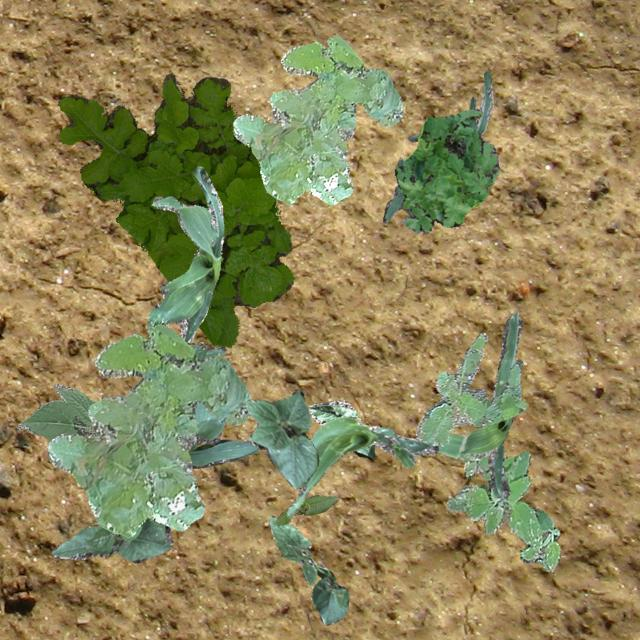crop: (382, 70, 492, 222), (436, 312, 522, 498), (286, 414, 438, 518), (146, 166, 222, 342), (268, 514, 348, 624), (186, 346, 258, 468), (245, 388, 318, 488), (16, 382, 110, 442), (50, 516, 172, 562), (306, 399, 374, 458), (274, 494, 336, 524)
weed: (56, 72, 294, 346), (46, 322, 250, 536), (232, 35, 402, 204), (446, 450, 560, 570), (393, 108, 498, 232), (414, 332, 526, 446), (186, 342, 204, 348)
